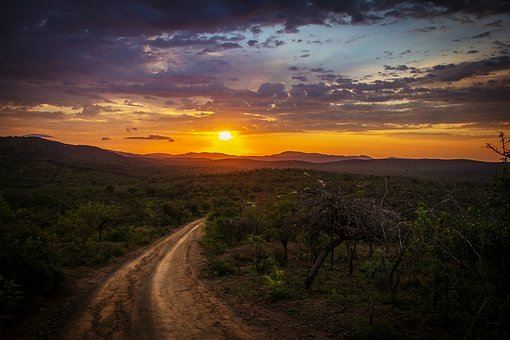forest: (4, 181, 510, 334)
sky: (4, 2, 510, 150)
